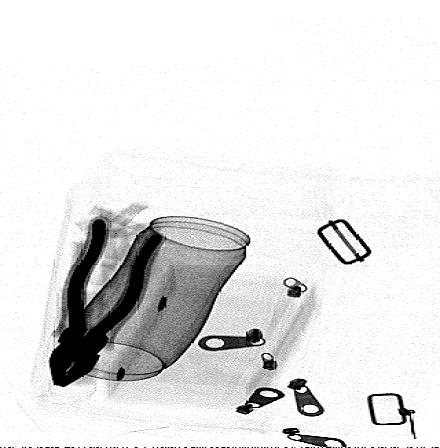Pliers: (47, 217, 167, 389)
